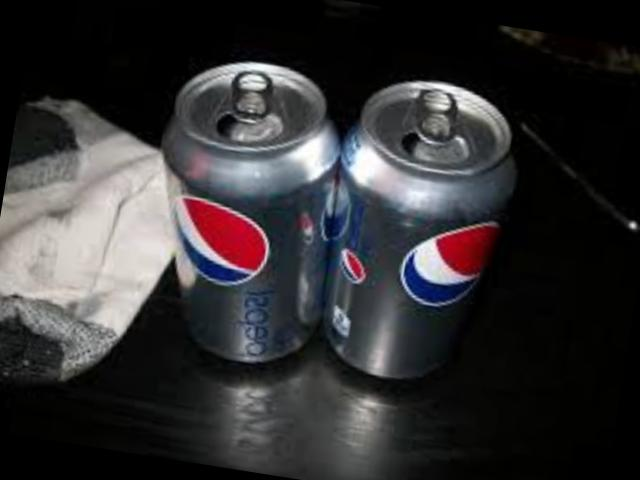metal: (328, 78, 519, 374), (168, 60, 342, 359)
